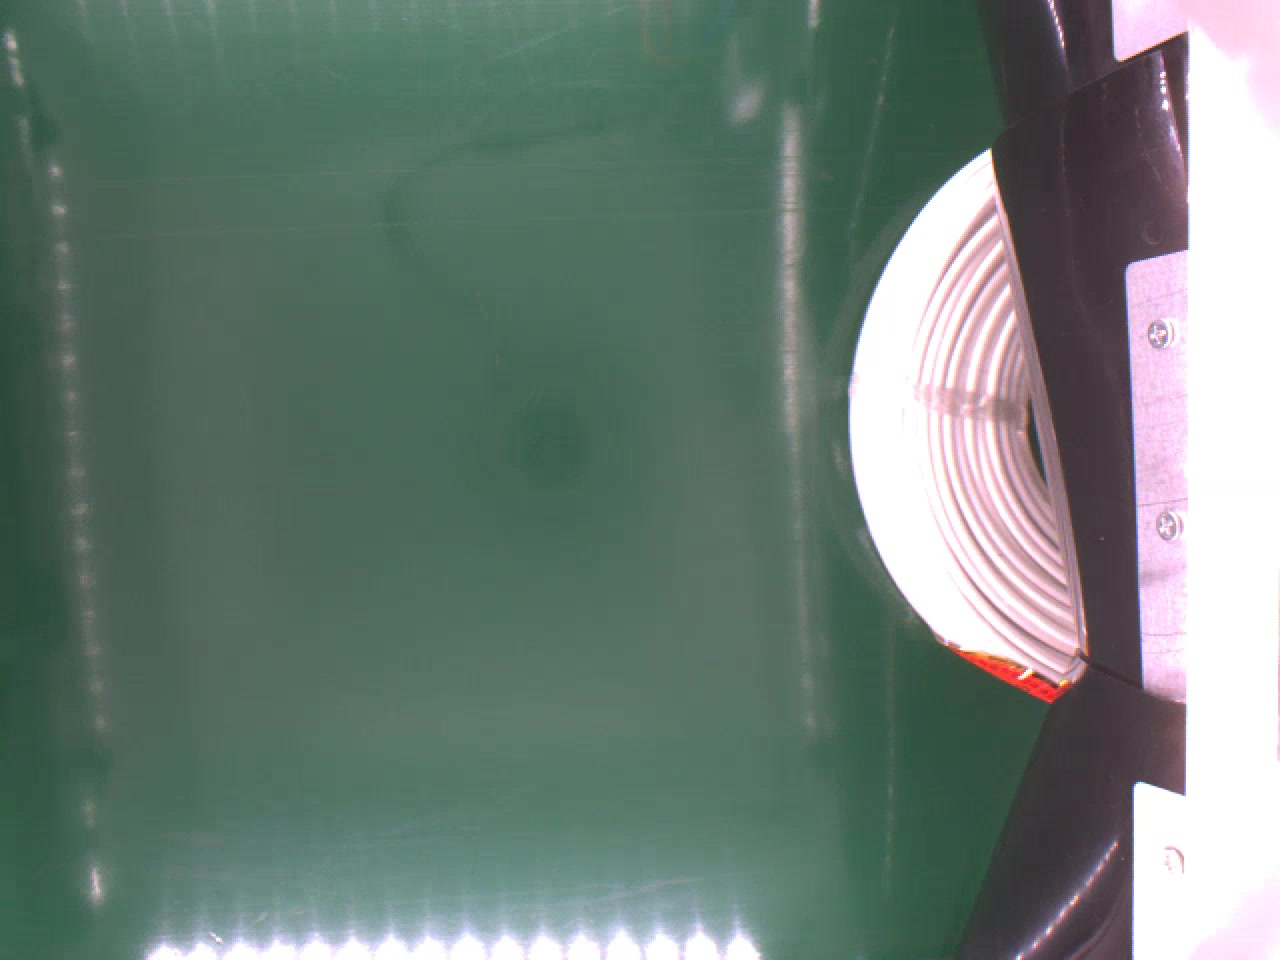white: (842, 137, 1085, 700)
